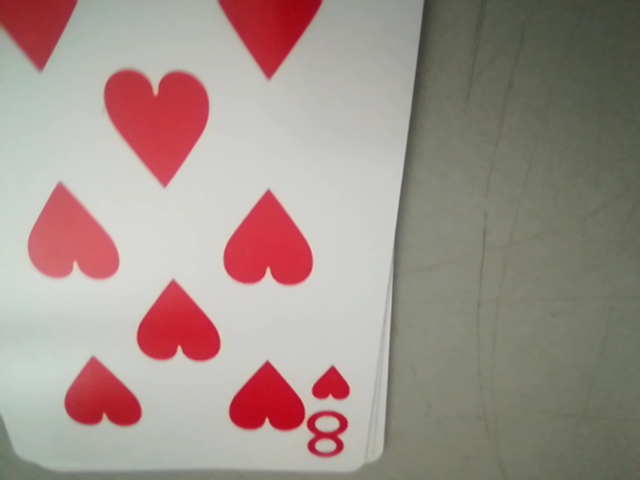hx 8: (300, 363, 366, 464)
